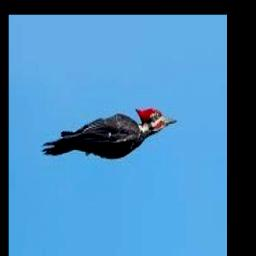Woodpecker: (41, 106, 176, 159)
